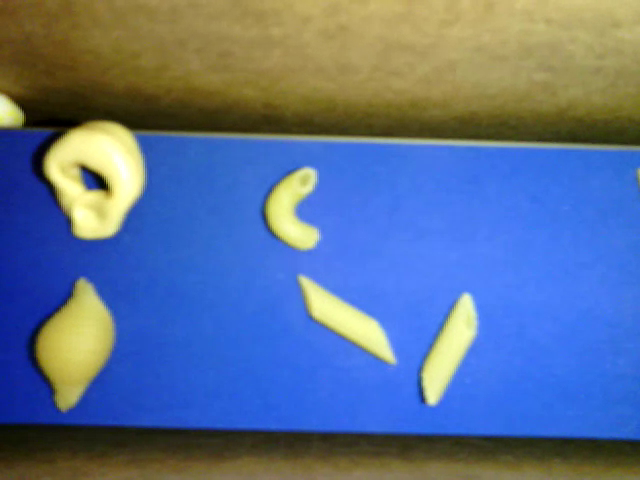elbow: (263, 166, 320, 252)
penne: (297, 275, 396, 364), (419, 292, 478, 406)
shell: (37, 277, 117, 413)
tortellini: (43, 117, 148, 242)
